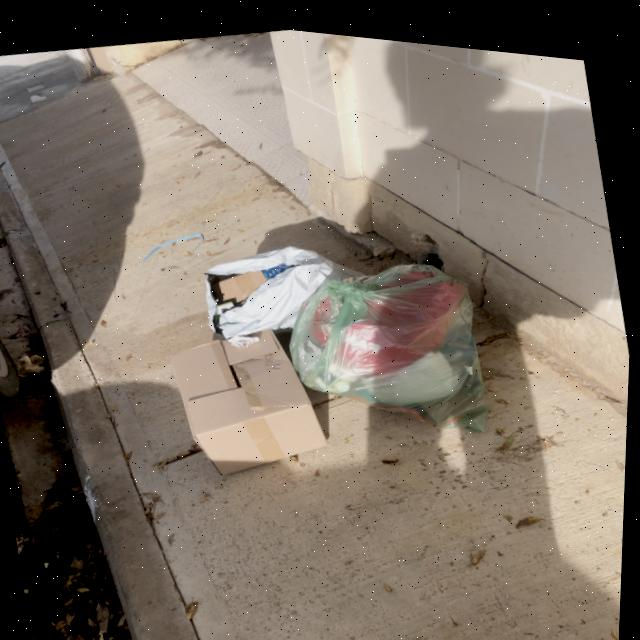Other: (162, 301, 346, 491), (198, 218, 352, 347)
Recycled Waste -Grey or Green Bag-: (270, 229, 511, 470)
